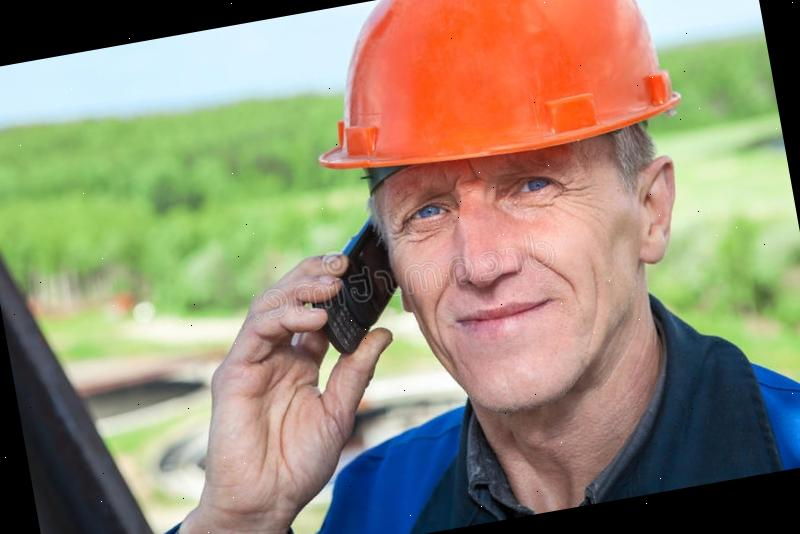helmet: (292, 0, 687, 188)
